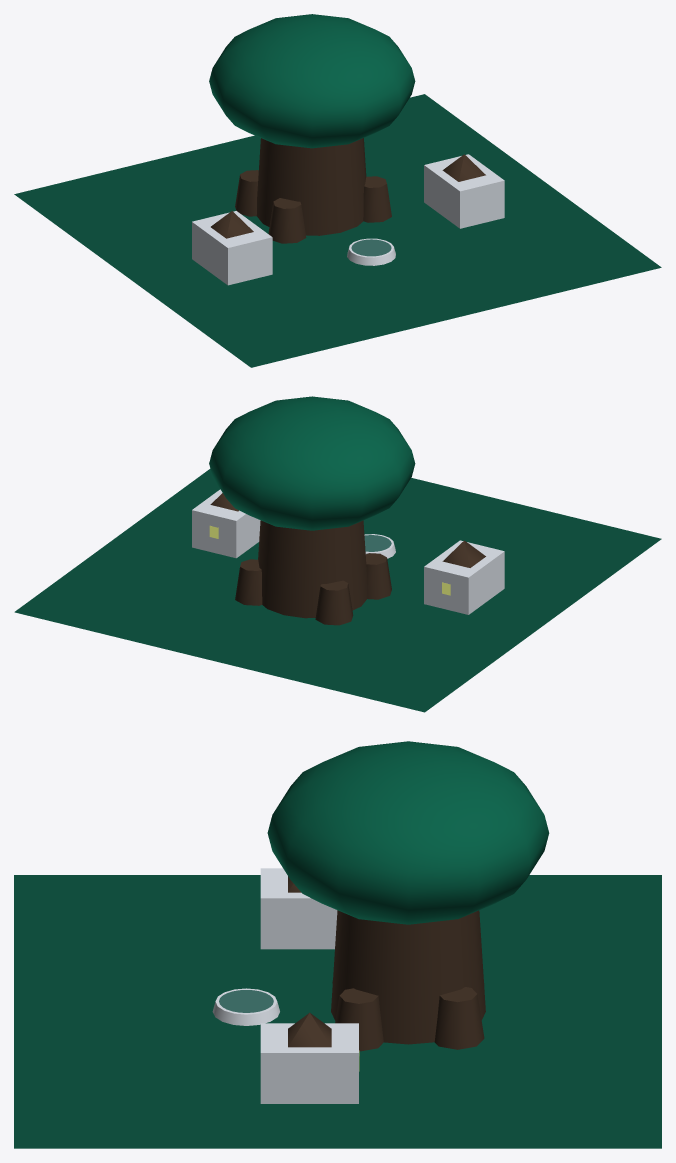
Rendered from nor_01.glb.
3 views of the same model, one above another, from view 1: azimuth 30°, elevation 25°; view 2: azimuth 150°, elevation 25°; view 3: azimuth 270°, elevation 25° (orthographic). The views are drawn at different scales.
Visible parts, largest first — view 1: scenario_base_floor, NOR_01, noria_pavilion_details, noria_fountain_water; view 2: scenario_base_floor, NOR_01, noria_pavilion_details; view 3: scenario_base_floor, NOR_01, noria_pavilion_details, noria_fountain_water.
Boxes of the visible parts, box(x1,y1,x2,y2) form: scenario_base_floor: box(14, 94, 661, 367); NOR_01: box(192, 14, 504, 285); noria_pavilion_details: box(211, 154, 485, 238); noria_fountain_water: box(351, 239, 391, 256); scenario_base_floor: box(14, 469, 661, 712); NOR_01: box(192, 396, 504, 625); noria_pavilion_details: box(209, 493, 485, 595); scenario_base_floor: box(14, 875, 661, 1148); NOR_01: box(212, 741, 549, 1103); noria_pavilion_details: box(288, 876, 359, 1071); noria_fountain_water: box(219, 990, 273, 1012).
Bounding box in the file's own units: 46 × 19.5 × 46.
